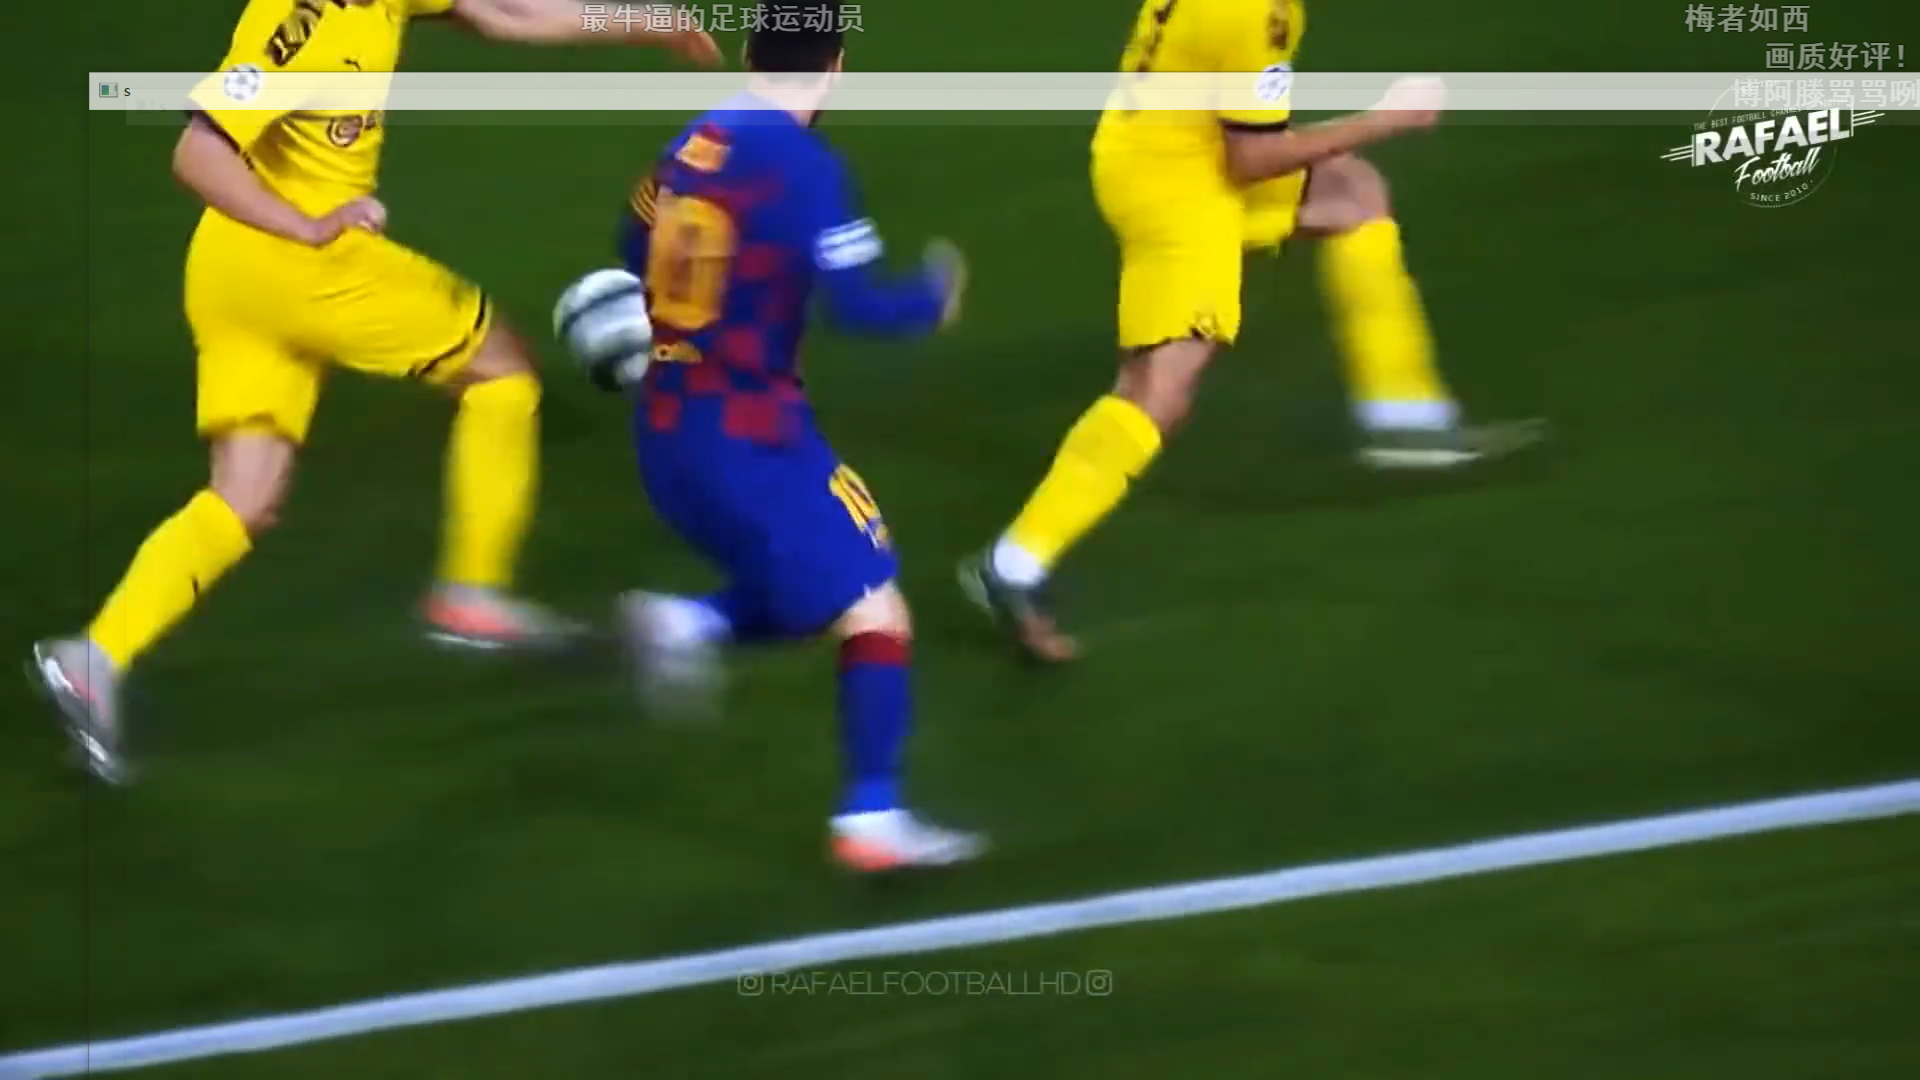ft: (545, 258, 675, 389)
